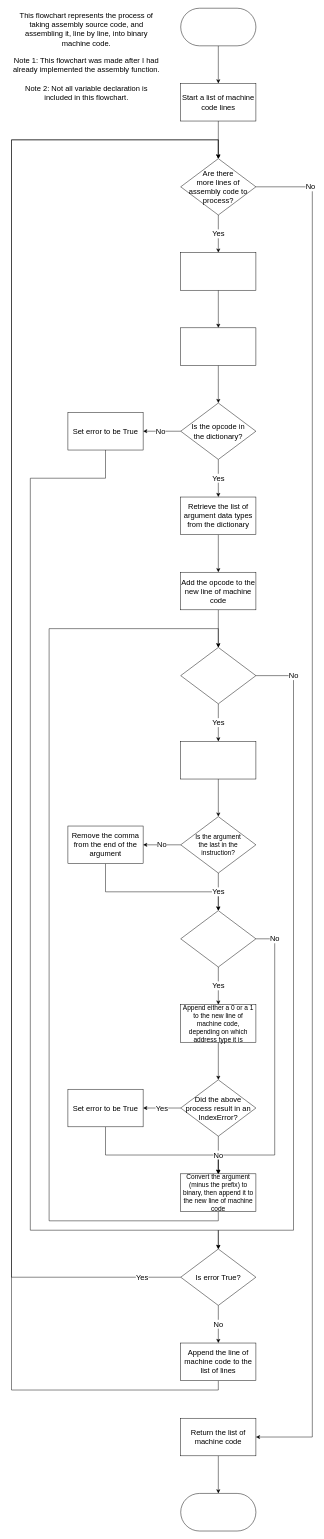
Image size: 324x1539. Some labels were removed from this diagram. The shapes that lost their labels are listed below. From the top down, each one's centre as x and y in pixels, then its label:
point 218,27: Start
point 218,271: Start a string for the new line of machine code
point 218,346: Split the line of assembly code by spaces
point 218,675: Are there more arguments to process?
point 218,760: Declare variables for the argument and the data type
point 218,938: Does the data type start with "address_type_"?
point 218,1512: End
